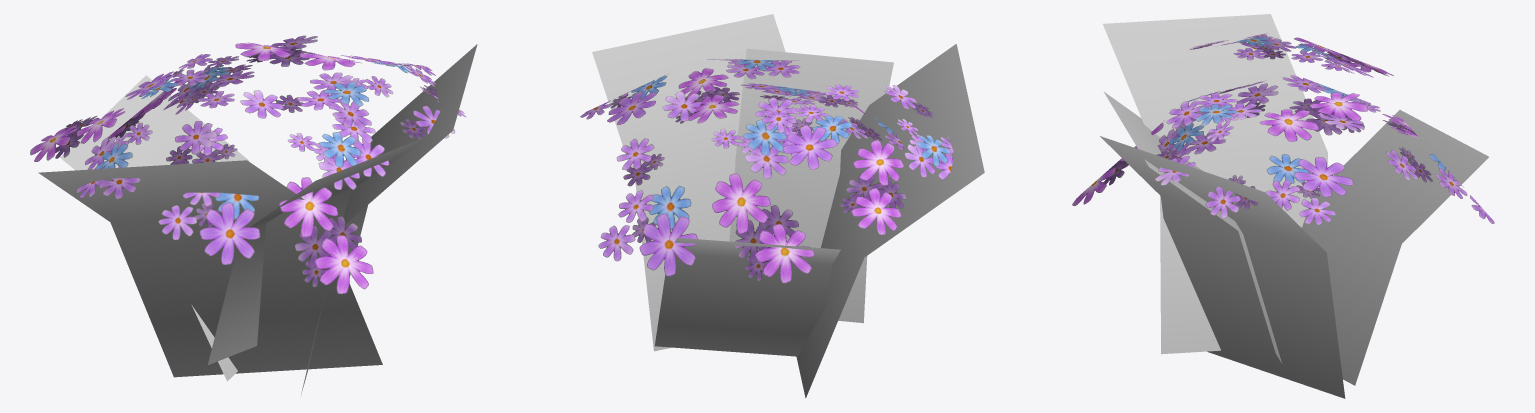
File: Flower_004.fbx
3 renders of one model, left to right at view 1: azimuth 30°, elevation 25°; view 2: azimuth 150°, elevation 25°; view 3: azimuth 270°, elevation 25°, orthographic. The views are drawn at different scales.
Parts seen in each view (by area): view 1: polySurface1; view 2: polySurface1; view 3: polySurface1.
Boxes of the visible parts, left/top/right/bottom form: polySurface1: left=30, top=35, right=477, bottom=394; polySurface1: left=580, top=14, right=984, bottom=398; polySurface1: left=1072, top=14, right=1494, bottom=398.
Size of the model in its own units: 660 by 452 by 642.
